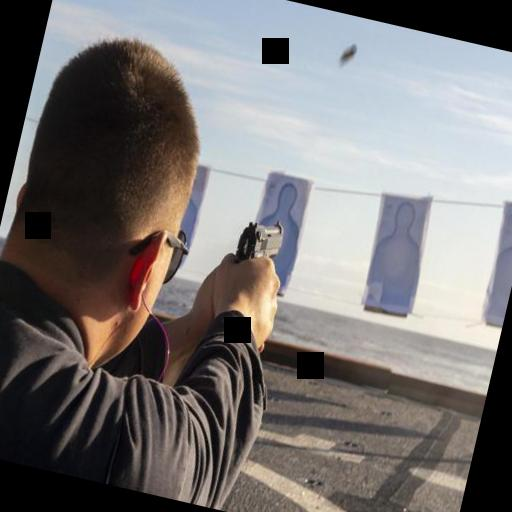Handgun: (228, 206, 292, 271)
